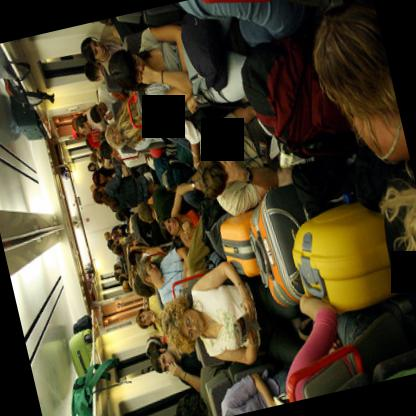backpack: (242, 34, 351, 159), (290, 156, 358, 213), (72, 356, 118, 416), (3, 76, 55, 106), (129, 213, 169, 245), (0, 45, 31, 82)
handbag: (290, 151, 356, 220), (181, 17, 226, 97)
suitcase: (293, 201, 404, 314), (244, 181, 310, 305), (220, 205, 261, 276), (9, 94, 46, 140), (67, 328, 92, 376), (73, 314, 93, 334)
